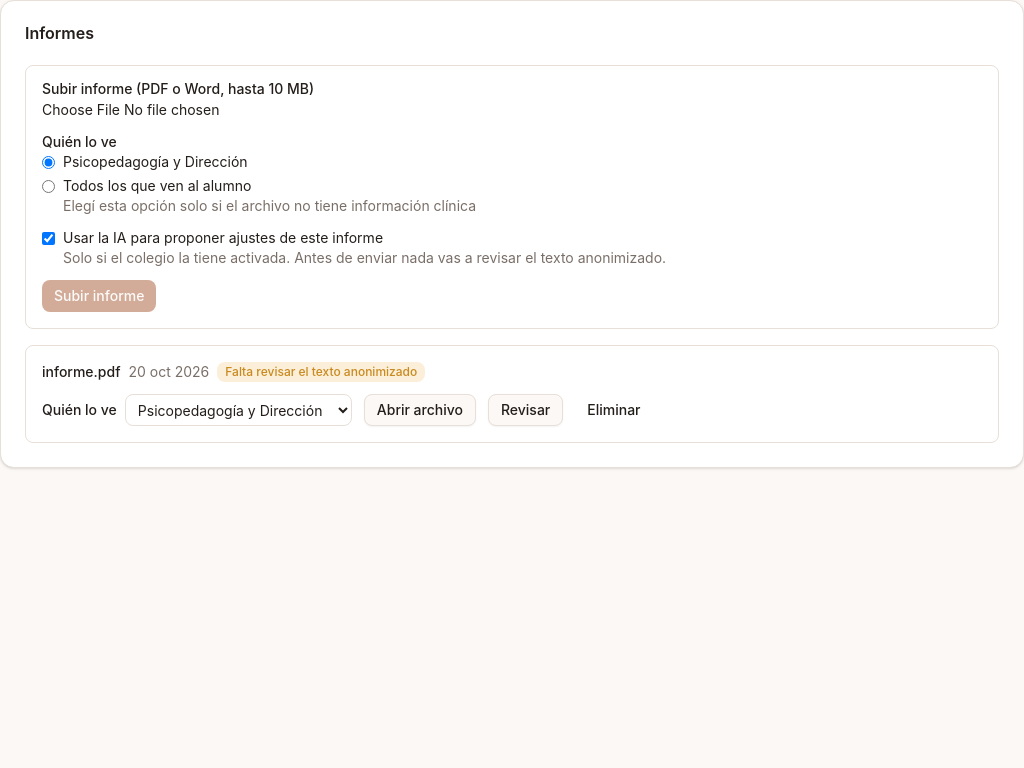
StudentReportsSection › shows only the source fragment when the proposal has no real page
The width and height of the screenshot is (1024, 768).
Click the button "Revisar".
click(526, 410)  # box [488,394,563,426]
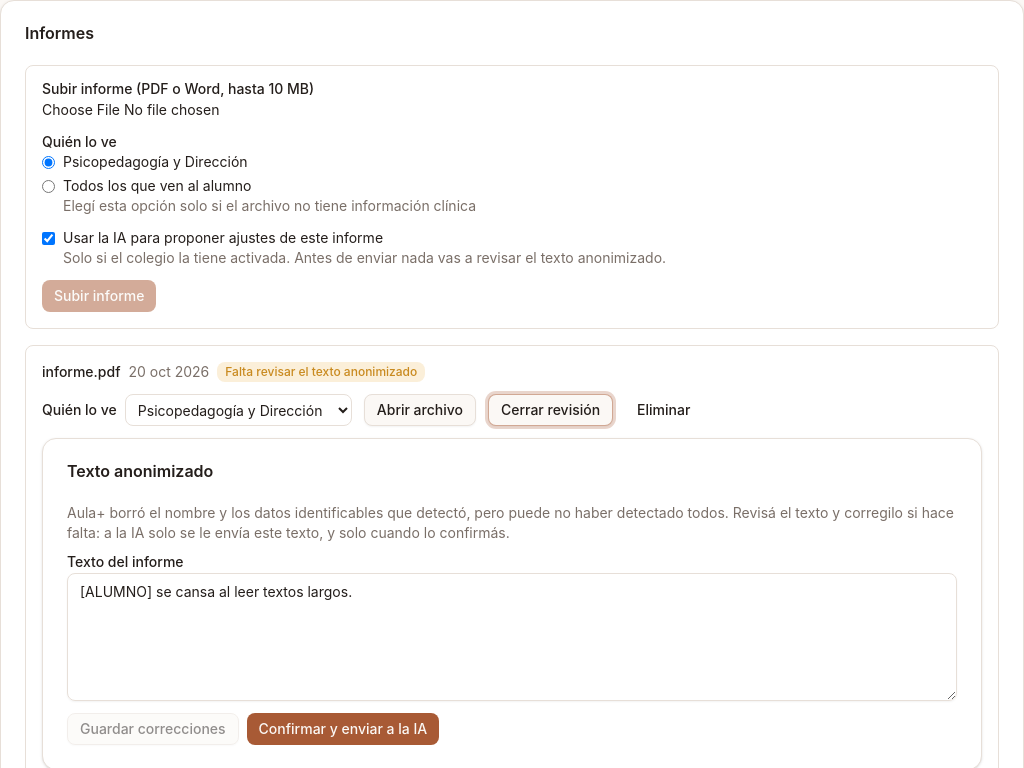
Expected: the text box labelled "Texto del informe" is shown, [67,573,957,701]
